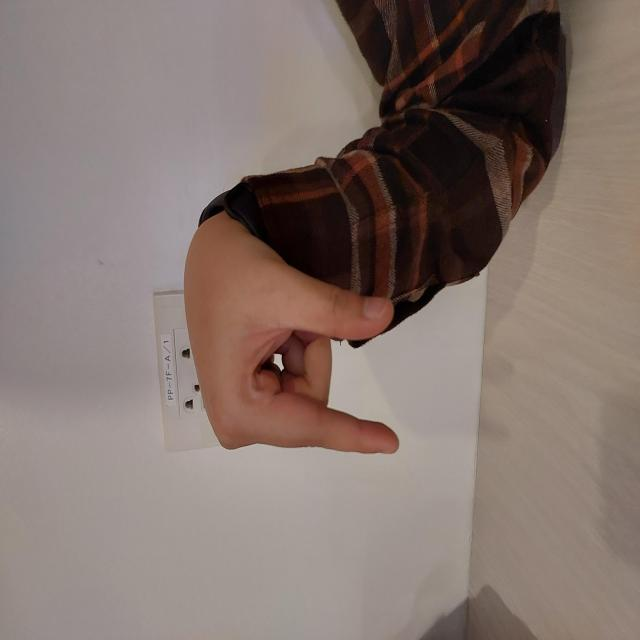Q: (181, 181, 431, 404)
